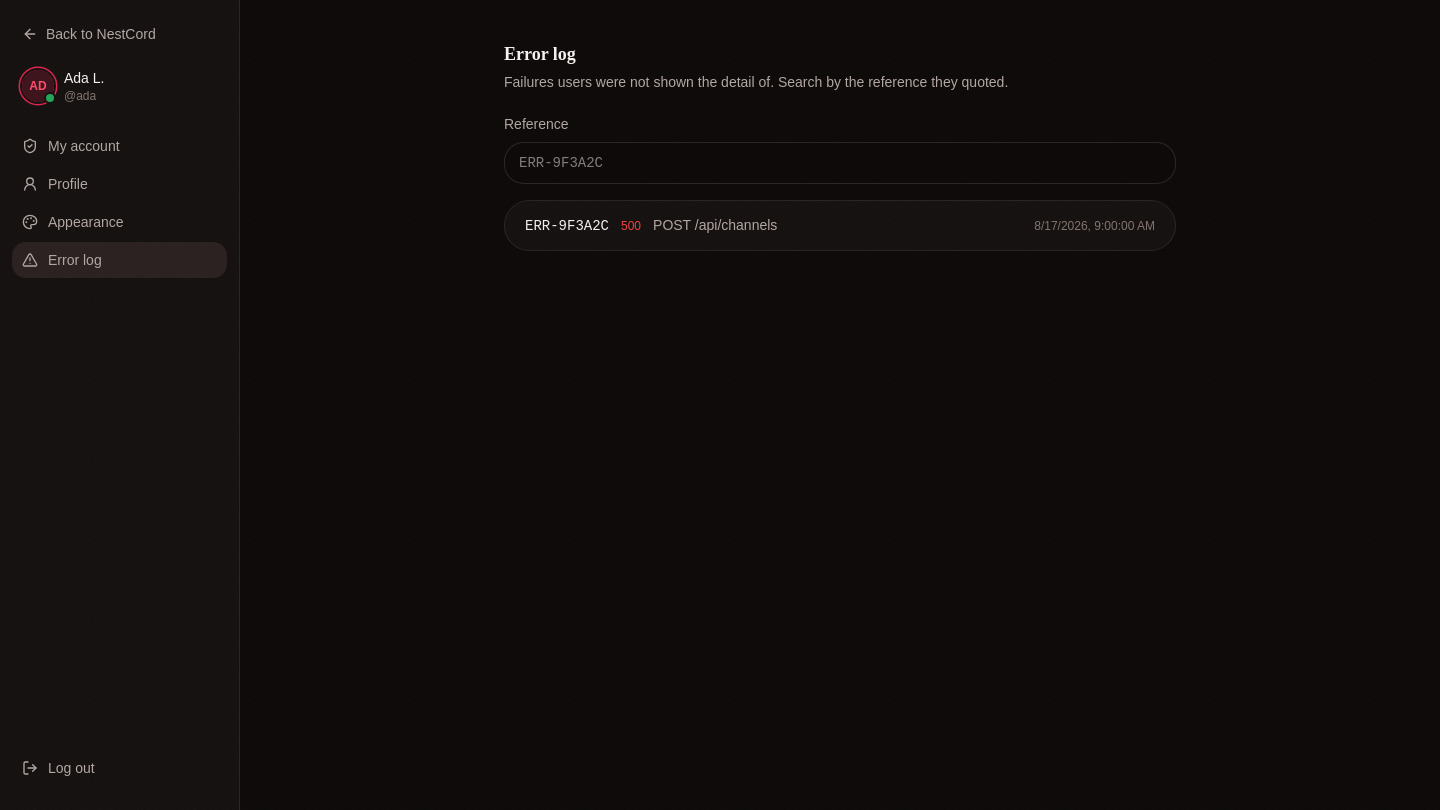
Scenario: the error log › keeps the detail and the stack behind a click
The image size is (1440, 810).
Expected: the text "Prisma P2010: Raw query failed" is not shown
Click the button "ERR-9F3A2C 500 POST /api/channels 8/17/2026, 9:00:00 AM" at (567, 226), box [525,215,1155,236]
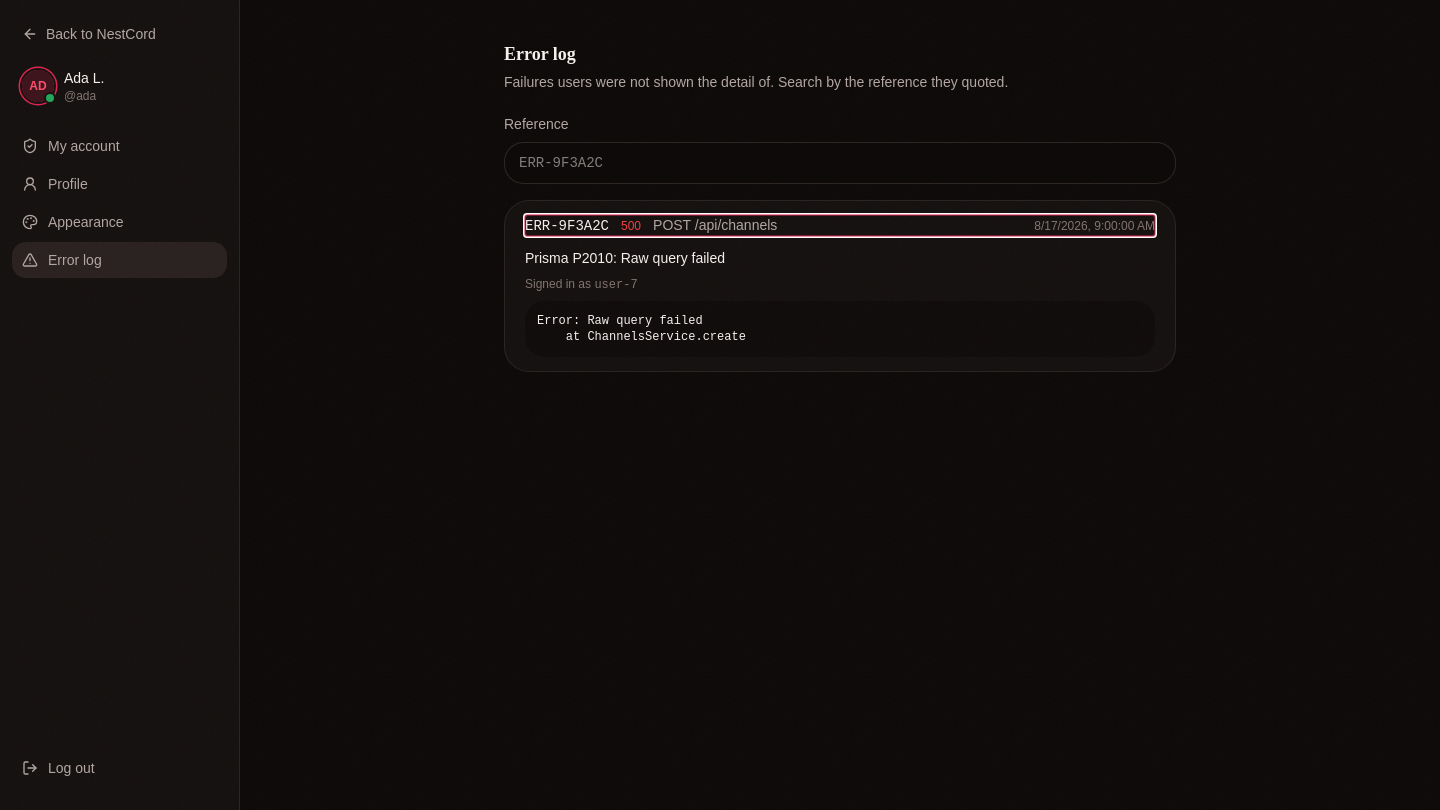
Expected: the text "Prisma P2010: Raw query failed" is shown, [525,250,725,266]
Expected: the text "Error: Raw query failed at ChannelsService.create" is shown, [525,301,1155,357]
